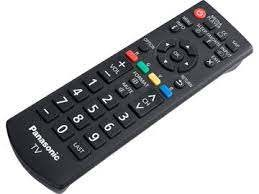remote control: (2, 3, 252, 189)
